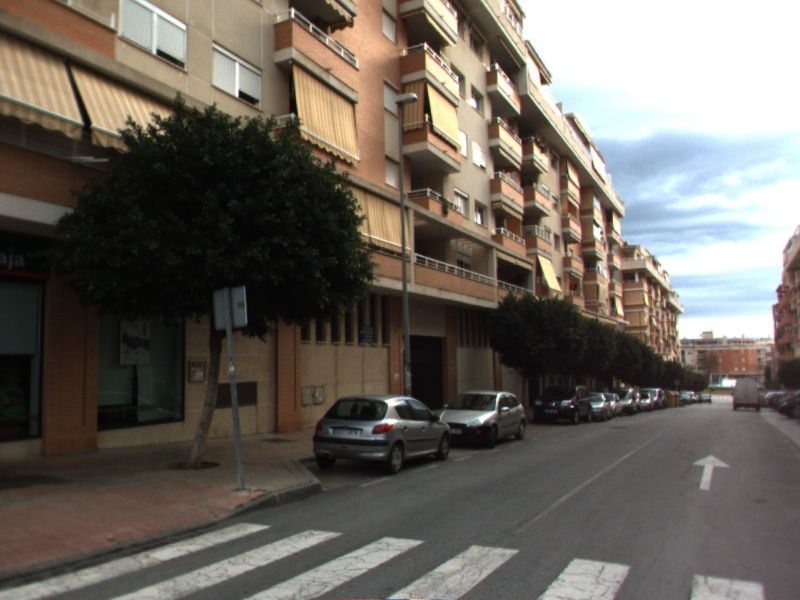STRAIGHT: (690, 452, 733, 492)
